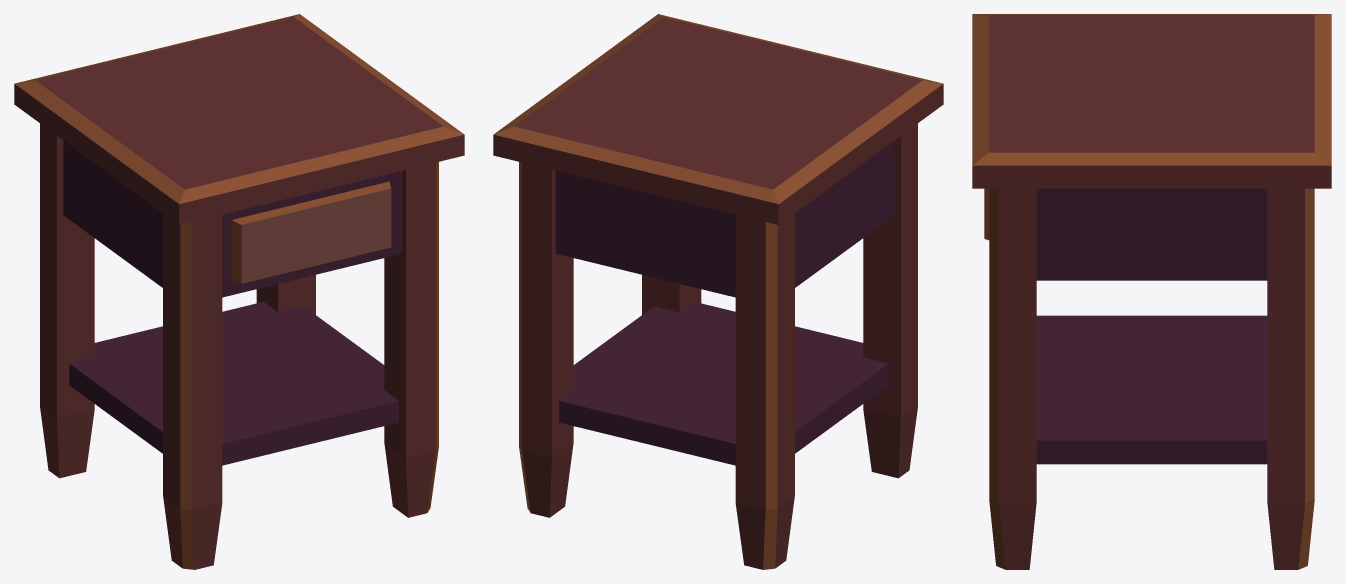
Rendered from TableOfice1.fbx.
3 renders of one model, left to right at view 1: azimuth 30°, elevation 25°; view 2: azimuth 150°, elevation 25°; view 3: azimuth 270°, elevation 25°, orthographic. The views are drawn at different scales.
Visible parts, largest first — view 1: TableOfice1; view 2: TableOfice1; view 3: TableOfice1.
Boxes of the visible parts, x1=… form: TableOfice1: x1=14, y1=14, x2=464, y2=569; TableOfice1: x1=493, y1=14, x2=943, y2=569; TableOfice1: x1=972, y1=14, x2=1331, y2=569.
Bounding box in the file's own units: 41.98 × 54.23 × 41.98.
